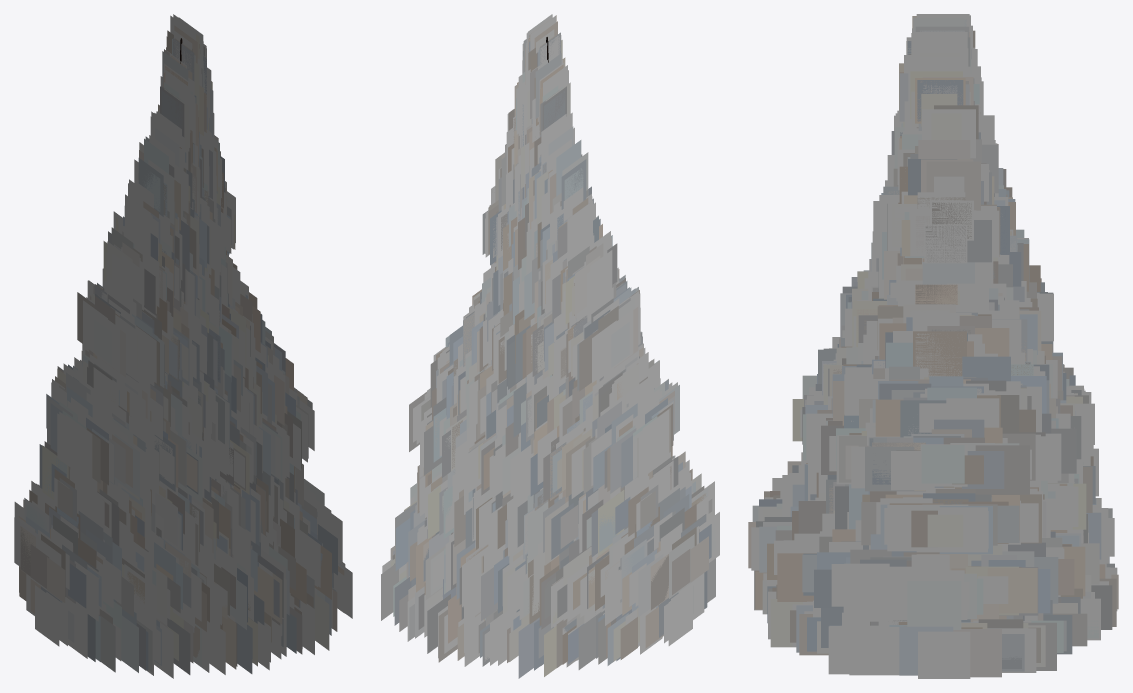
Rendered from SM_V2_Pine_A.fbx.
The picture shows the model from 3 angles, left to right: view 1: azimuth 30°, elevation 25°; view 2: azimuth 150°, elevation 25°; view 3: azimuth 270°, elevation 25°; orthographic projection. The views are drawn at different scales.
Visible parts, largest first — view 1: SM_V2_Pine_A; view 2: SM_V2_Pine_A; view 3: SM_V2_Pine_A.
Part boxes in pixels (x1,y1,x2,y2): SM_V2_Pine_A: (14,14,352,678); SM_V2_Pine_A: (381,14,719,678); SM_V2_Pine_A: (748,14,1118,678).
Size of the model in its own units: 9.53 by 20.79 by 10.87.
